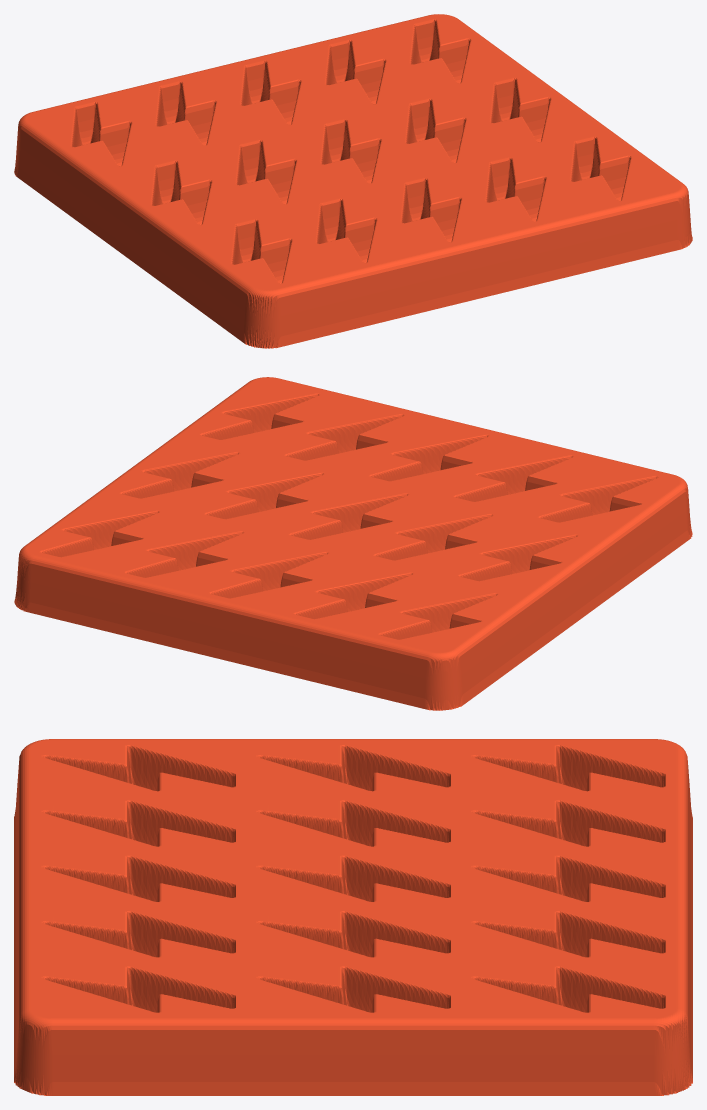
File: mold.glb
3 views of the same model, one above another, from view 1: azimuth 30°, elevation 25°; view 2: azimuth 150°, elevation 25°; view 3: azimuth 270°, elevation 25° (orthographic). The views are drawn at different scales.
Parts seen in each view (by area): view 1: geometry_0; view 2: geometry_0; view 3: geometry_0.
Boxes of the visible parts, x1=… form: geometry_0: x1=14, y1=14, x2=692, y2=348; geometry_0: x1=14, y1=377, x2=692, y2=710; geometry_0: x1=14, y1=739, x2=692, y2=1095.
Bounding box in the file's own units: 0.1628 × 0.0185 × 0.1602.
